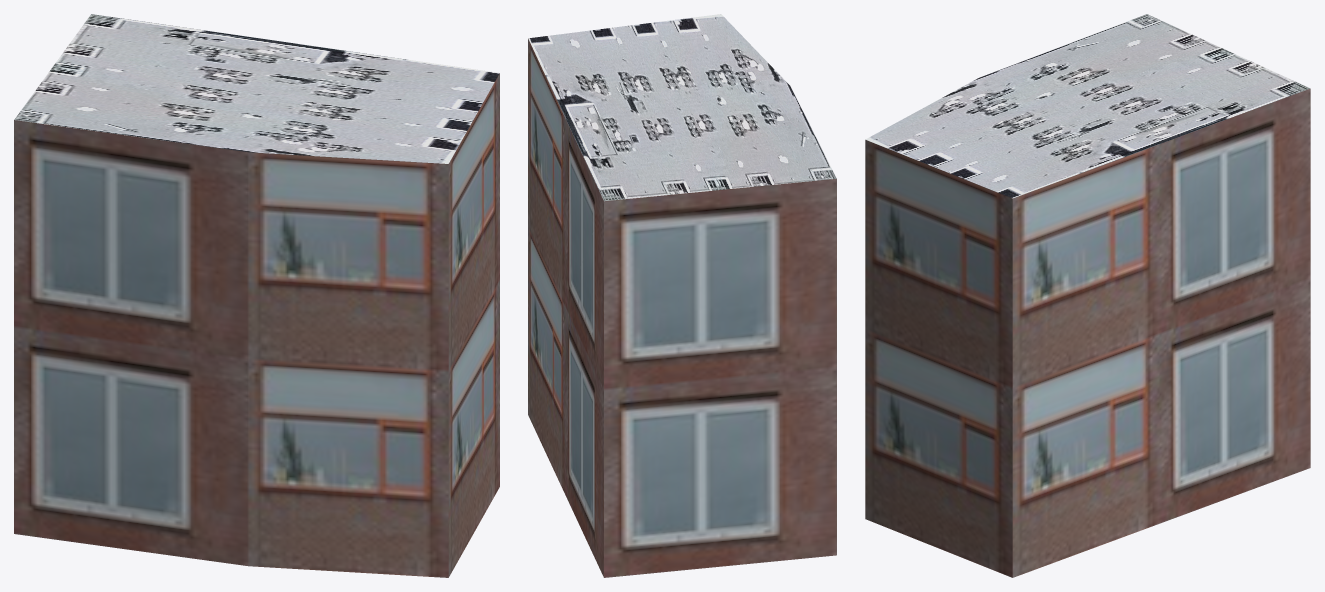
File: ResTex__4152.fbx
The picture shows the model from 3 angles, left to right: view 1: azimuth 30°, elevation 25°; view 2: azimuth 150°, elevation 25°; view 3: azimuth 270°, elevation 25°; orthographic projection. The views are drawn at different scales.
Parts seen in each view (by area): view 1: CityEngineMaterial_19_m, CityEngineMaterial_15_m; view 2: CityEngineMaterial_19_m, CityEngineMaterial_15_m; view 3: CityEngineMaterial_19_m, CityEngineMaterial_15_m.
Boxes of the visible parts, x1=… form: CityEngineMaterial_19_m: x1=14, y1=73, x2=499, y2=577; CityEngineMaterial_15_m: x1=14, y1=14, x2=499, y2=163; CityEngineMaterial_19_m: x1=528, y1=38, x2=836, y2=577; CityEngineMaterial_15_m: x1=528, y1=14, x2=836, y2=201; CityEngineMaterial_19_m: x1=865, y1=88, x2=1310, y2=577; CityEngineMaterial_15_m: x1=865, y1=14, x2=1310, y2=198.
Bounding box in the file's own units: 6.26 × 6 × 6.39.
Materials: 2 (2 with a texture image).
